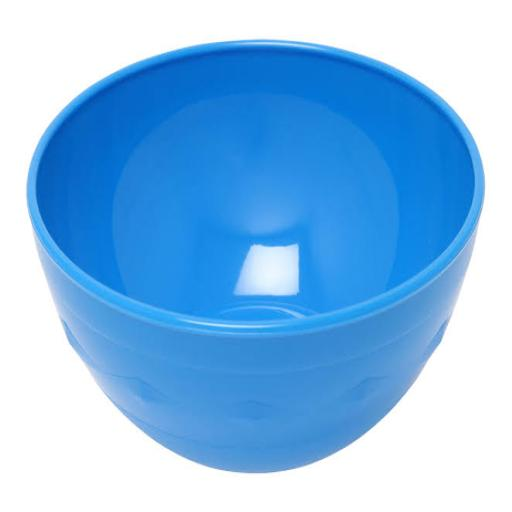Bowl: (27, 41, 483, 471)
